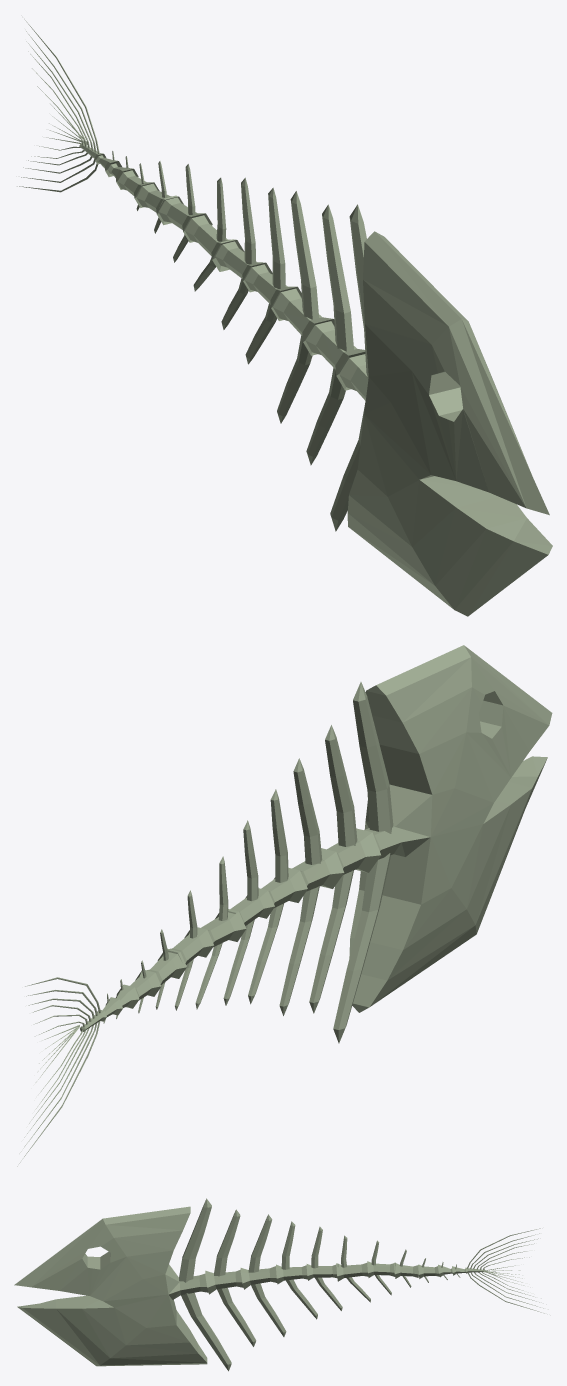
File: fishbone.obj
3 views of the same model, one above another, from view 1: azimuth 30°, elevation 25°; view 2: azimuth 150°, elevation 25°; view 3: azimuth 270°, elevation 25° (orthographic). The views are drawn at different scales.
Visible parts, largest first — view 1: fishbone; view 2: fishbone; view 3: fishbone.
Part boxes in pixels (<box>): fishbone: <box>17,19,552,616</box>; fishbone: <box>17,645,552,1166</box>; fishbone: <box>14,1198,544,1371</box>.
Bounding box in the file's own units: 0.7019 × 3.56 × 10.03.
